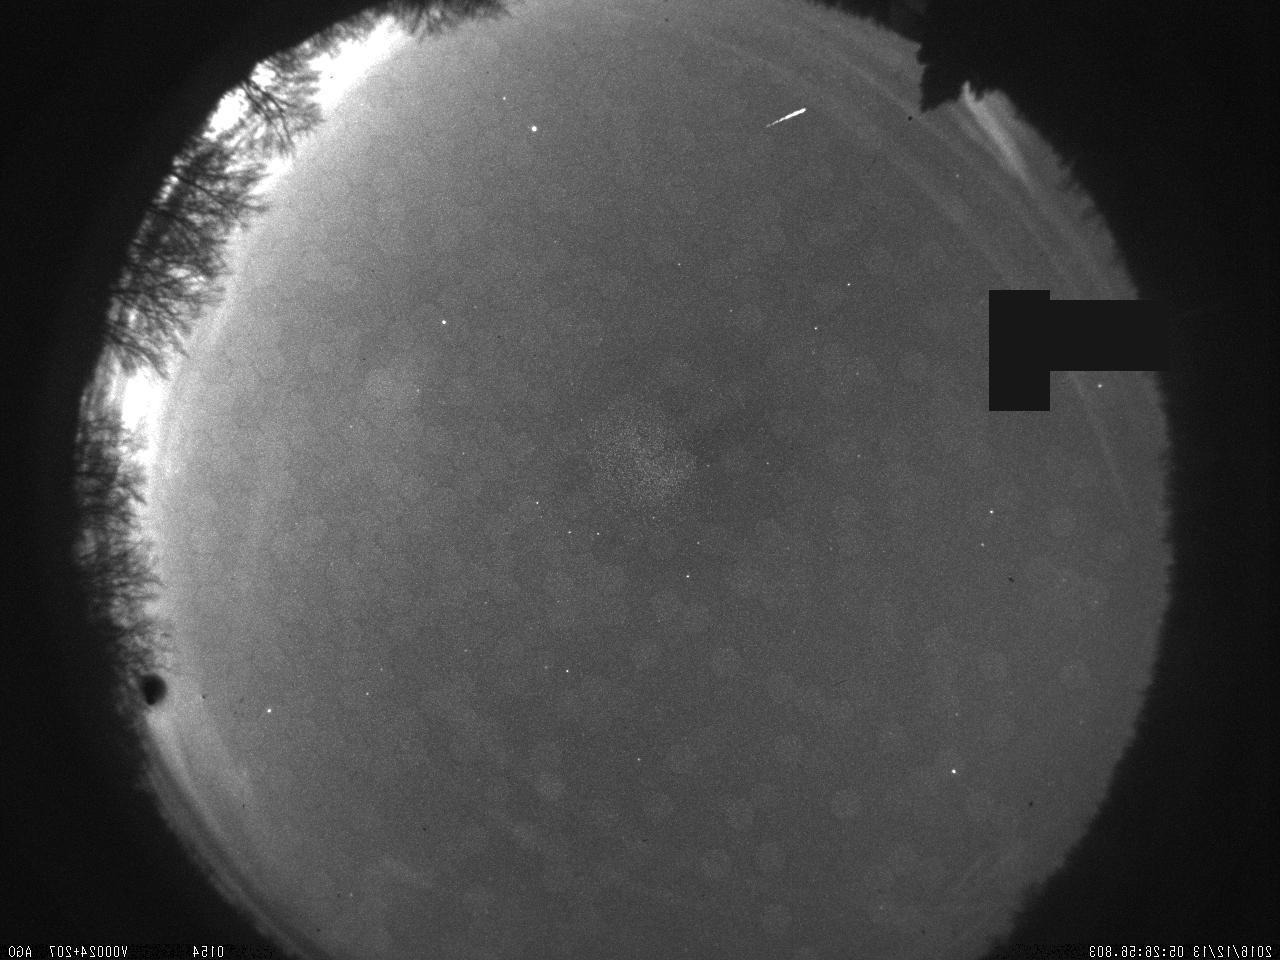meteor: (748, 90, 825, 146)
